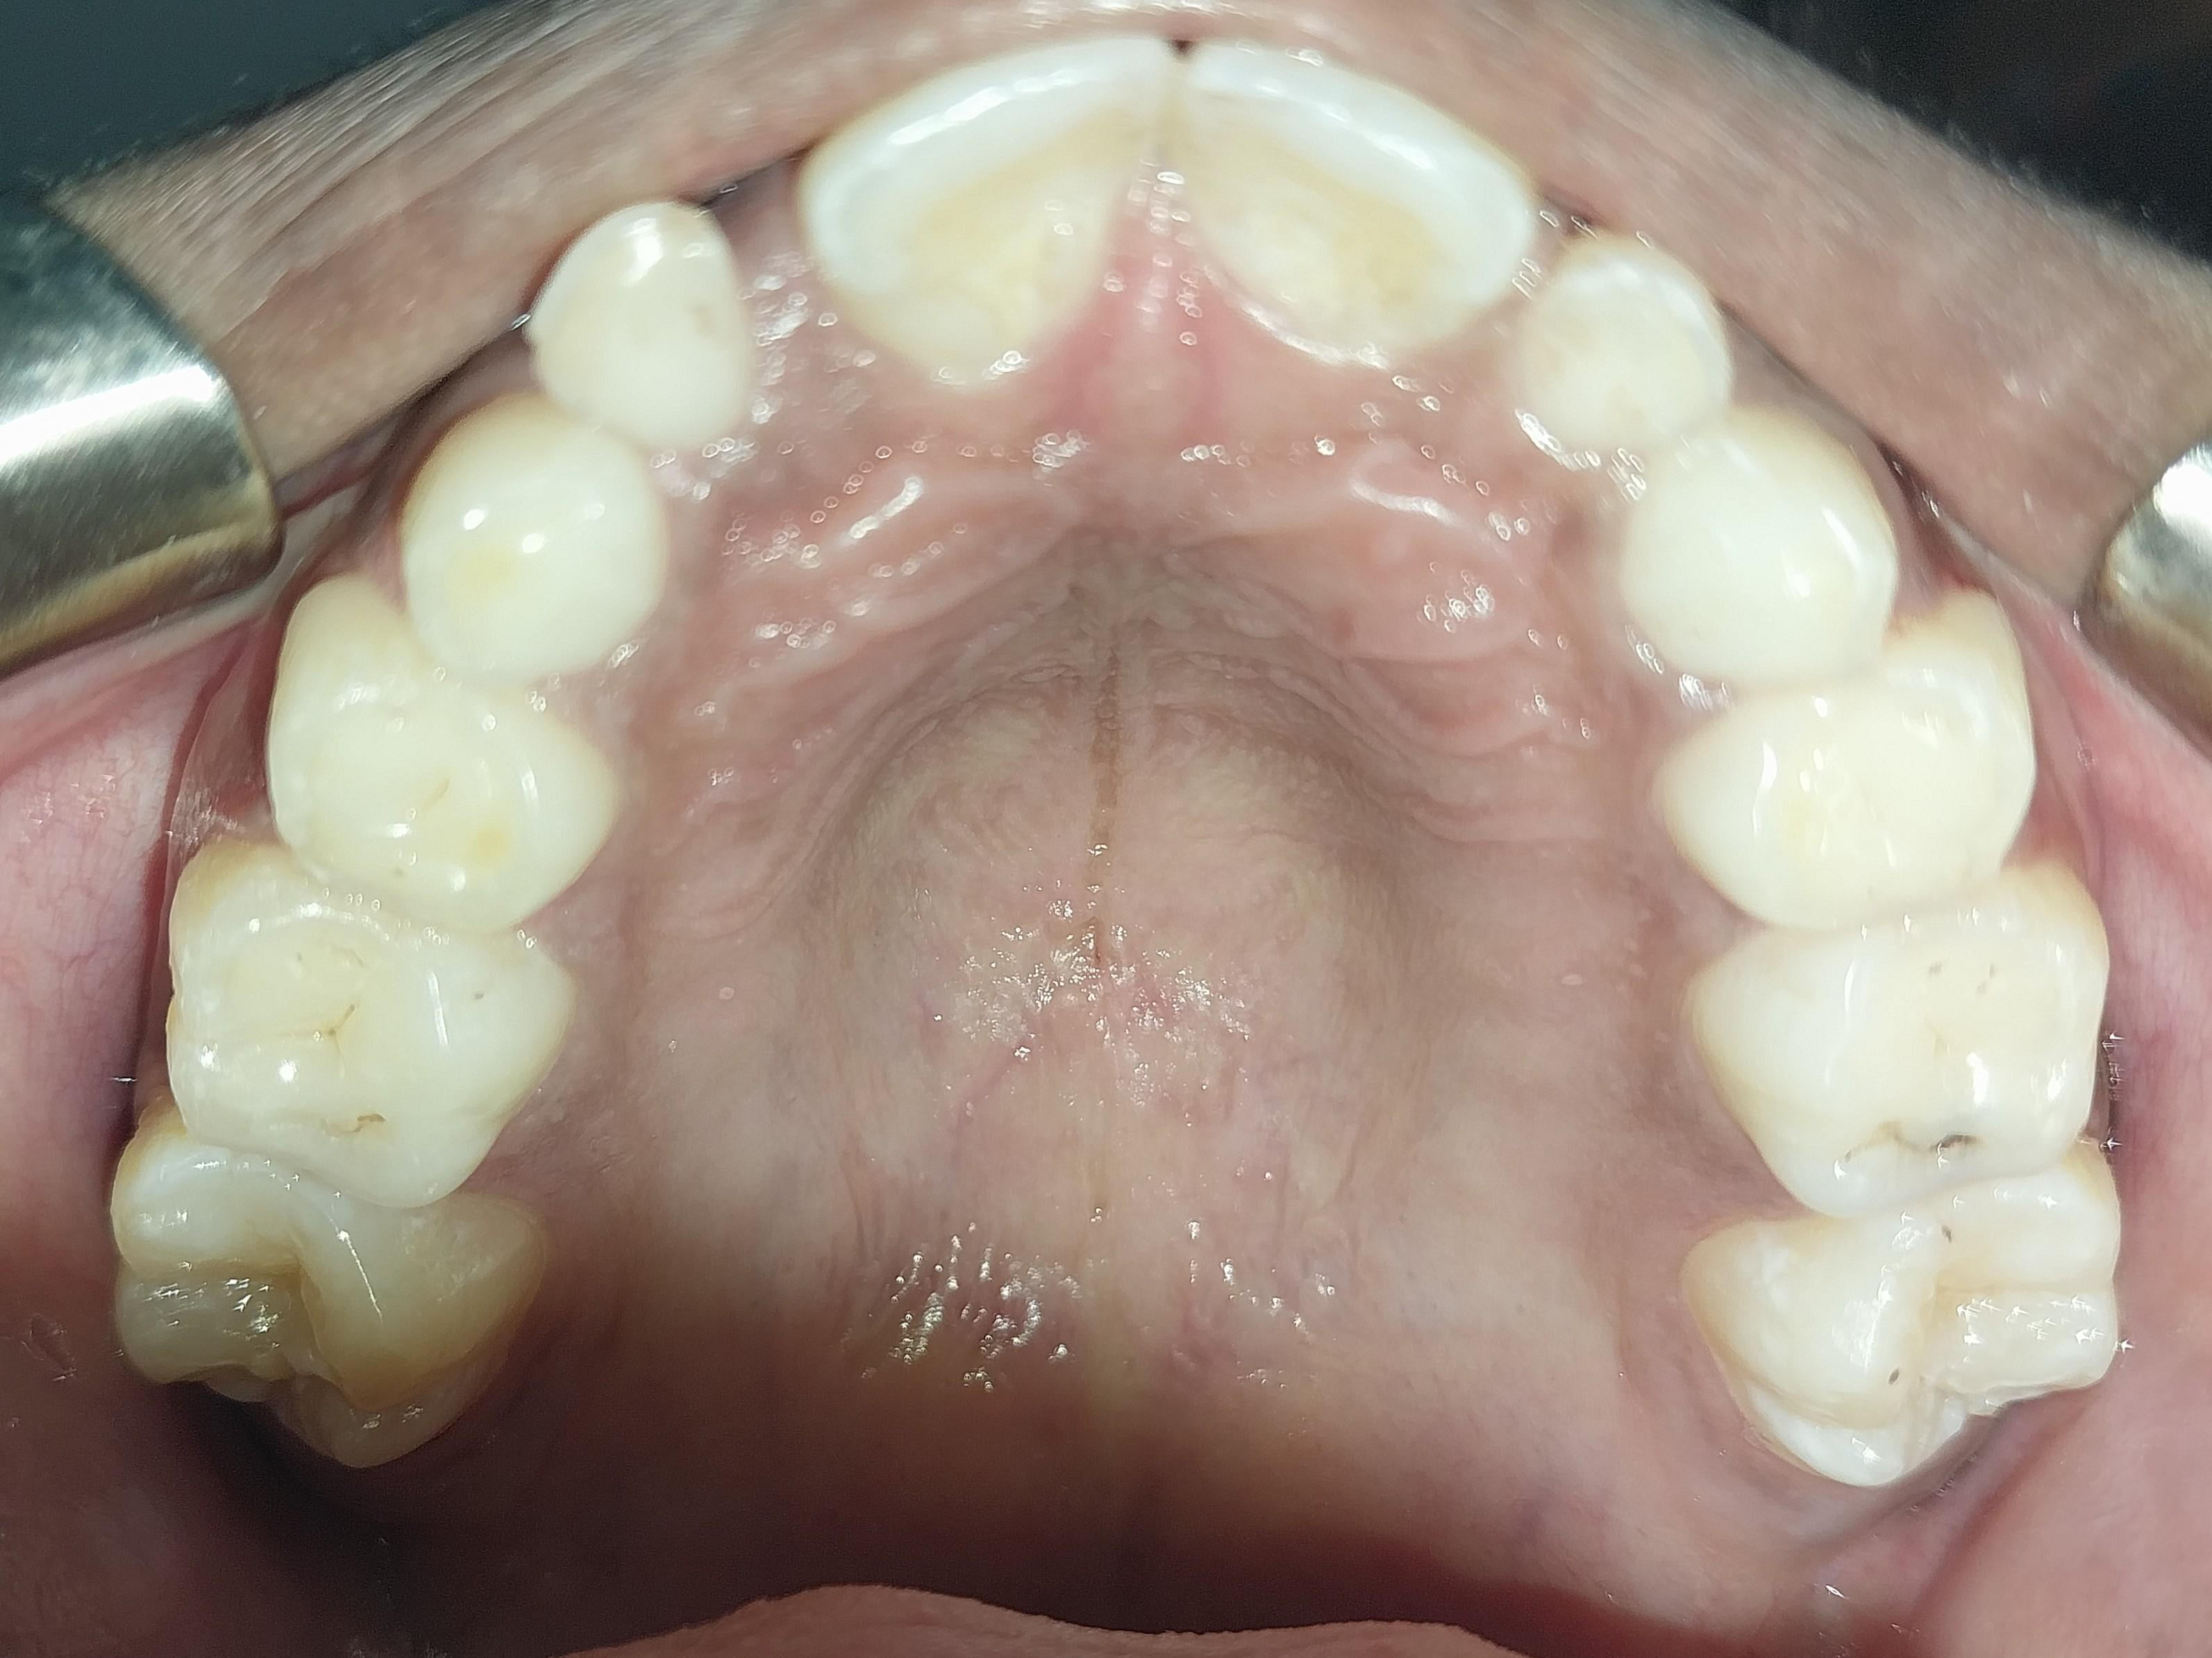d: (1689, 915, 2108, 1195)
